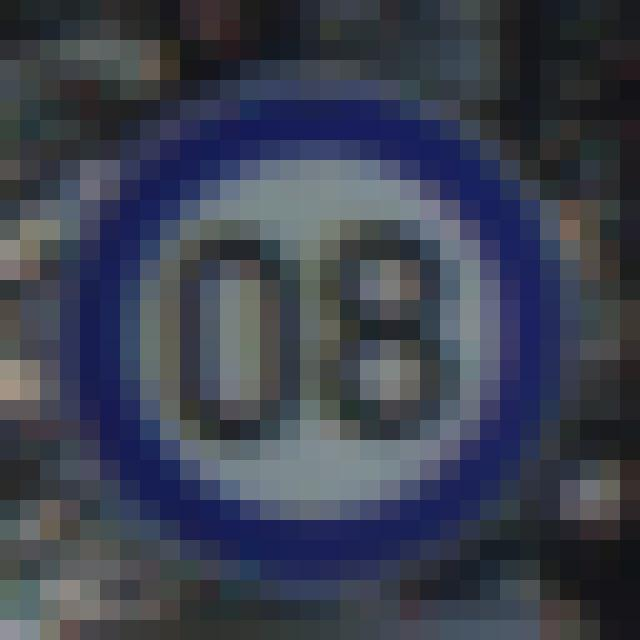SPEED-LIMIT-80: (80, 100, 576, 578)
